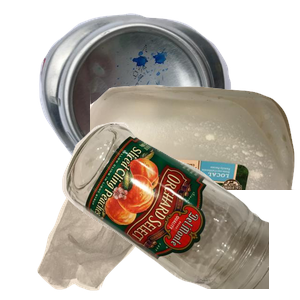glass: (60, 120, 300, 300)
metal: (37, 11, 261, 180)
plastic: (90, 82, 300, 262)
trash: (35, 140, 203, 300)
